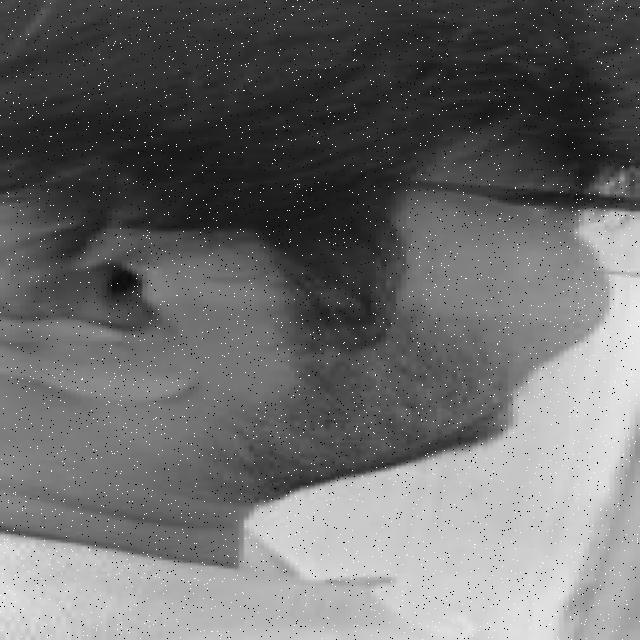ear: (0, 206, 178, 397)
